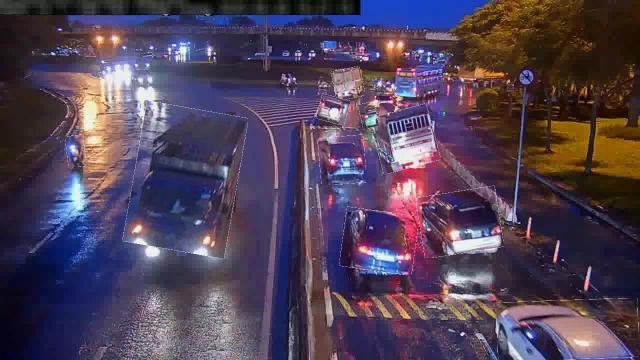Bike: (66, 135, 86, 167)
Car: (497, 299, 639, 359), (418, 188, 502, 256), (342, 209, 418, 273), (318, 136, 366, 184), (318, 96, 350, 124), (358, 103, 378, 129)
Truck: (128, 105, 244, 255), (372, 107, 438, 171), (332, 68, 364, 100)
